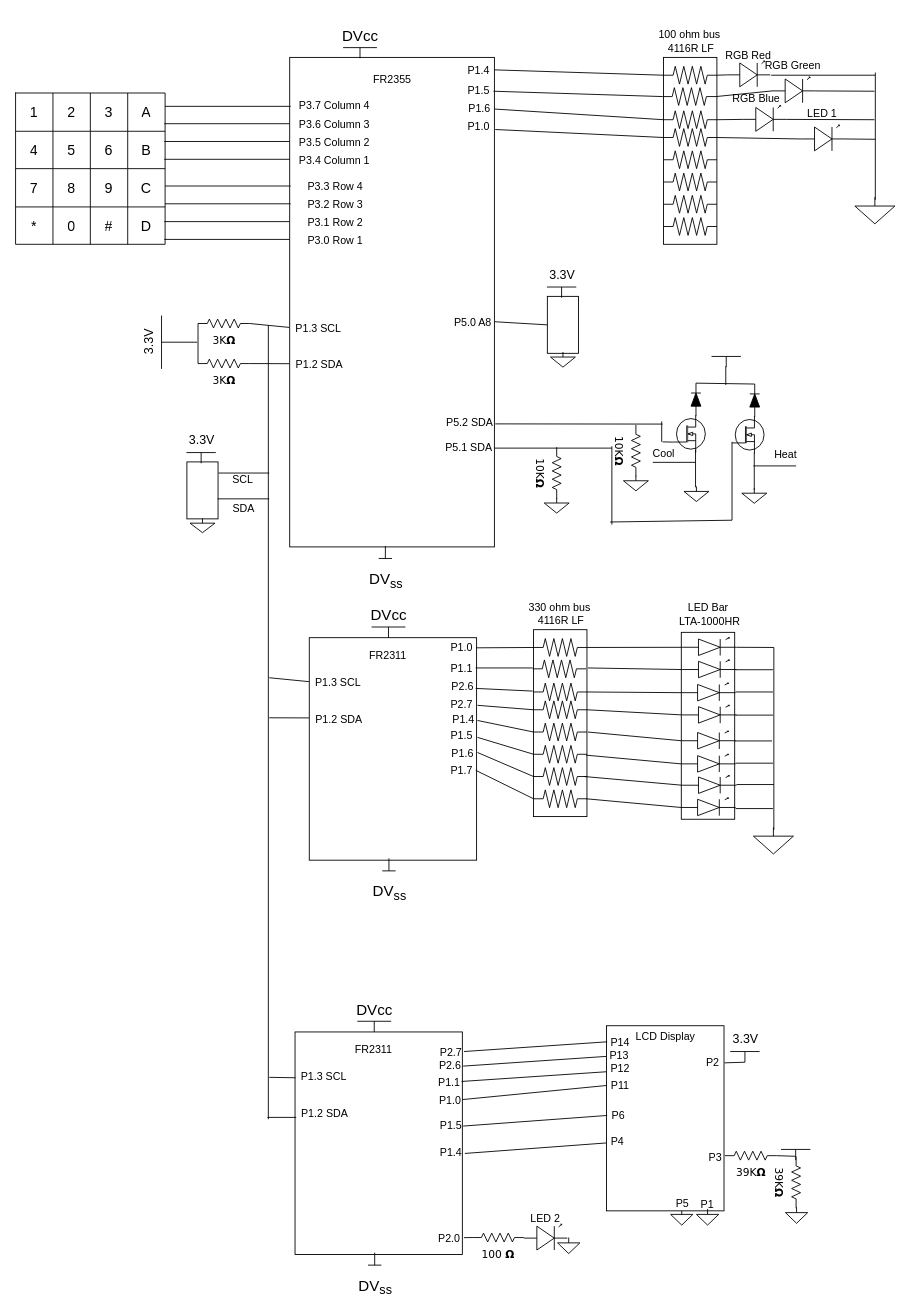
The diagram is 910 pixels wide and 1313 high, and some of its shapes have lost their labels. The shapes that lost their labels are listed below. From the top down, each one's centre as x and y in pixels, then its label:
(x=562, y=324): LM19
(x=726, y=361): 12V
(x=202, y=490): LM92
(x=795, y=1154): -3.3V
